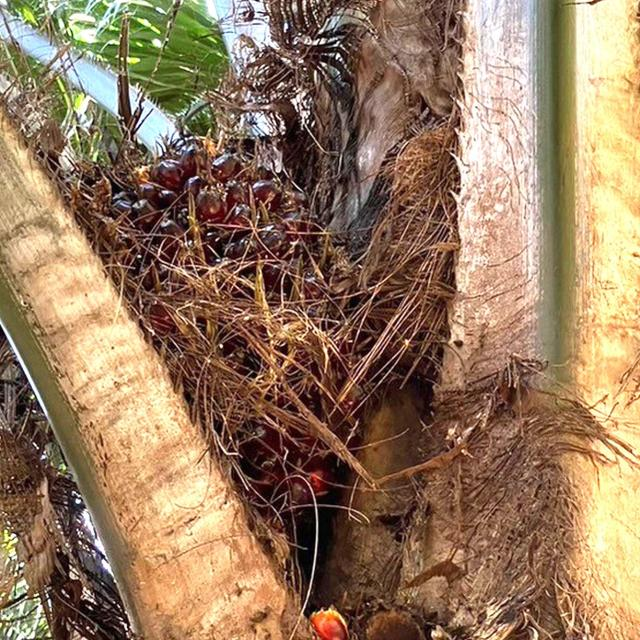ripe: (83, 134, 368, 586)
